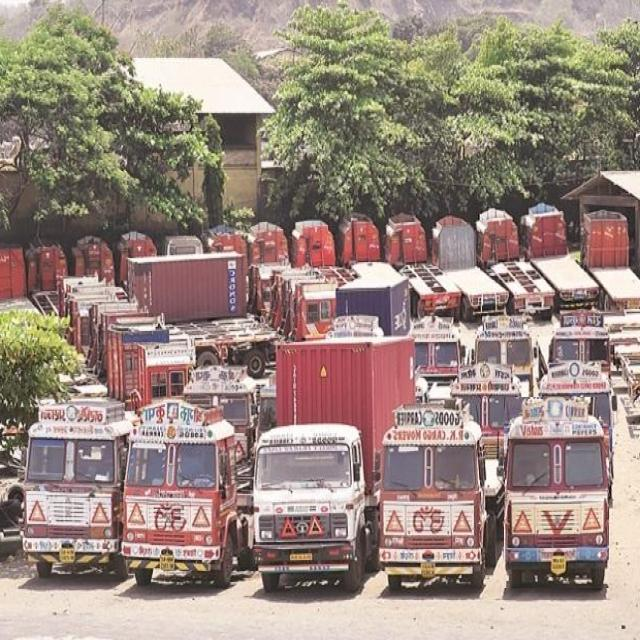truck: (254, 337, 414, 591), (379, 403, 504, 590), (121, 399, 240, 586), (504, 397, 609, 588), (22, 403, 132, 576)
